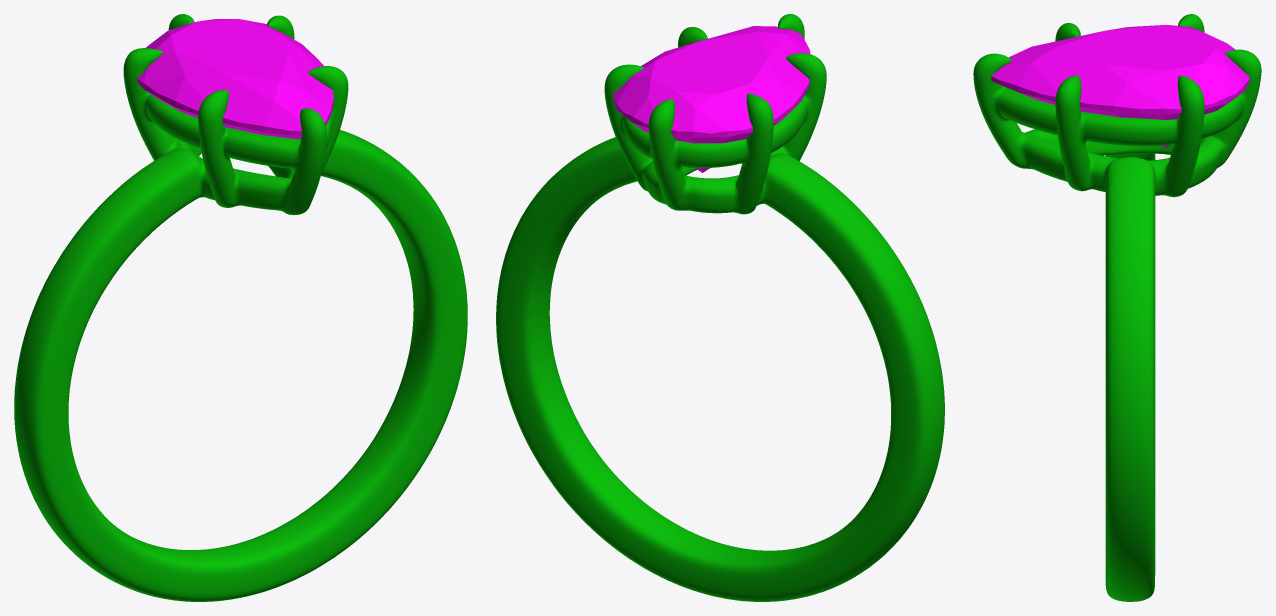
Rendered from BE1542_PE_200ct_RENDER.glb.
3 views of the same model, side by side, from view 1: azimuth 30°, elevation 25°; view 2: azimuth 150°, elevation 25°; view 3: azimuth 270°, elevation 25° (orthographic).
Visible parts, largest first — view 1: Metal 01, CS_Diamond_Pear; view 2: Metal 01, CS_Diamond_Pear; view 3: Metal 01, CS_Diamond_Pear.
Part boxes in pixels (x1,y1,x2,y2): Metal 01: [14, 14, 467, 601]; CS_Diamond_Pear: [137, 19, 333, 139]; Metal 01: [496, 14, 944, 601]; CS_Diamond_Pear: [613, 26, 810, 172]; Metal 01: [973, 14, 1261, 601]; CS_Diamond_Pear: [991, 24, 1249, 147].
Bounding box in the file's own units: 20.31 × 23.7 × 11.66.
